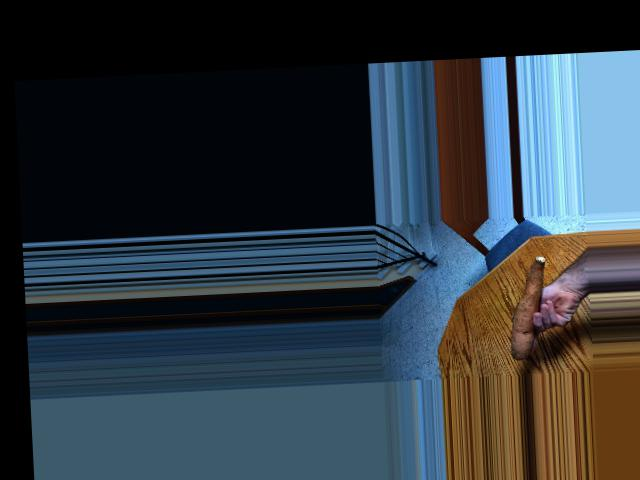sweet_potato: (502, 254, 554, 359)
